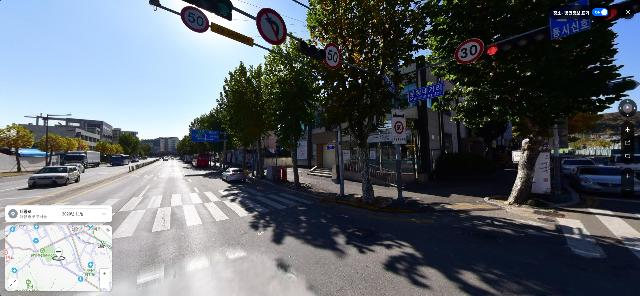other: (416, 0, 632, 207), (302, 0, 431, 203), (261, 32, 328, 188), (216, 60, 274, 179), (1, 124, 39, 172), (32, 132, 69, 166)
